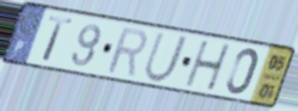0: (224, 47, 260, 97)
9: (69, 23, 104, 68)
H: (183, 39, 233, 93)
R: (105, 25, 149, 80)
T: (40, 15, 76, 64)
U: (141, 30, 192, 85)
